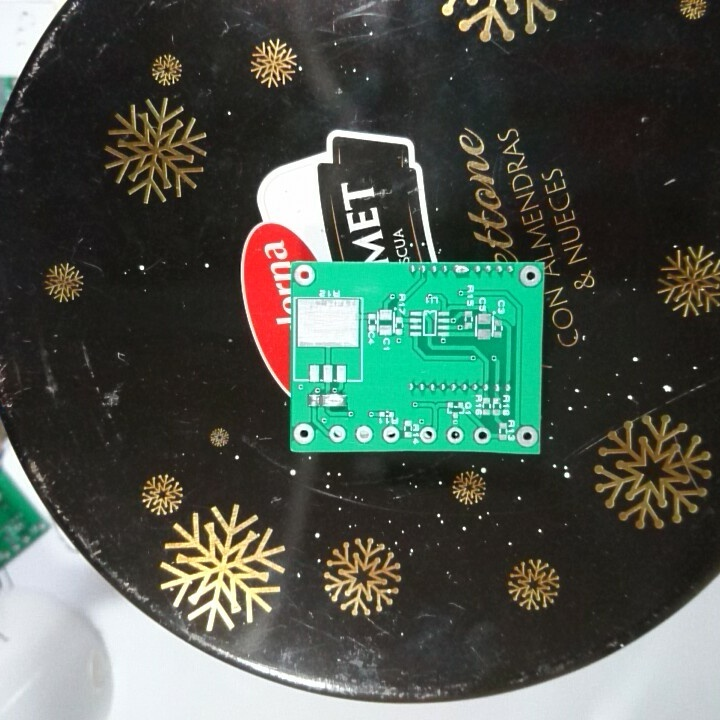F: (518, 263, 542, 290), (292, 262, 317, 287), (515, 424, 539, 449), (292, 421, 315, 446), (326, 424, 348, 446), (444, 424, 466, 446), (354, 422, 374, 446), (380, 424, 401, 446), (417, 424, 438, 446), (472, 425, 492, 447)
P: (320, 392, 350, 411), (451, 263, 471, 277)
